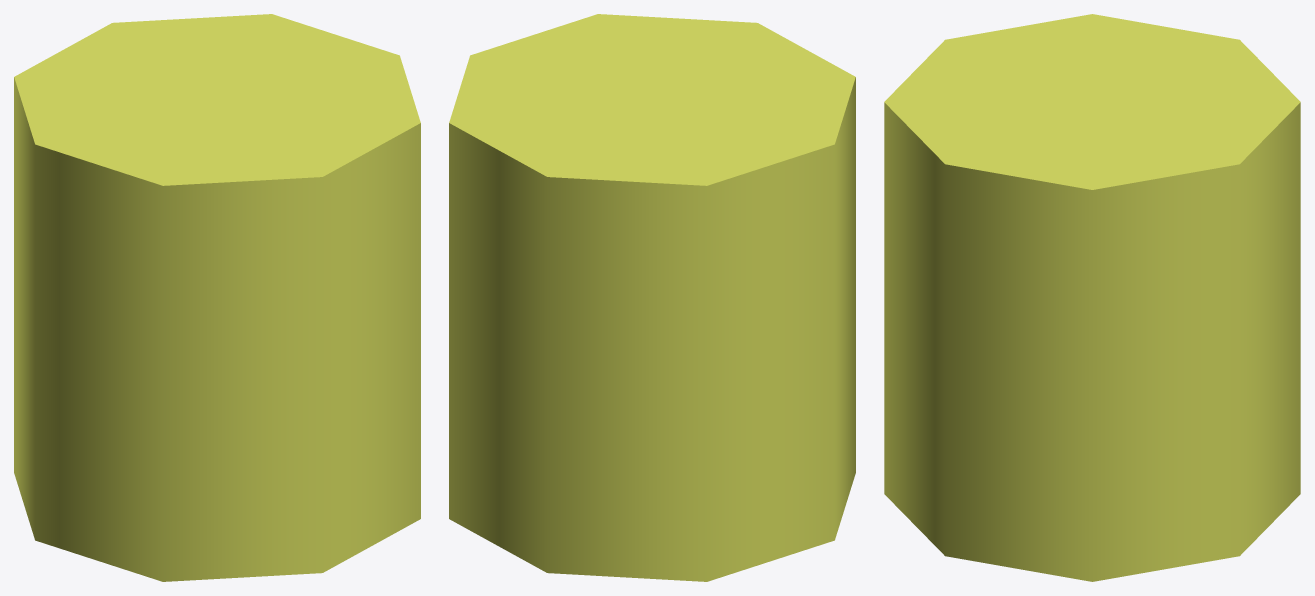
File: li_can01.fbx
3 renders of one model, left to right at view 1: azimuth 30°, elevation 25°; view 2: azimuth 150°, elevation 25°; view 3: azimuth 270°, elevation 25°, orthographic.
Visible parts, largest first — view 1: li_can01; view 2: li_can01; view 3: li_can01.
Part boxes in pixels (left/top/right/bottom): li_can01: left=14, top=14, right=420, bottom=581; li_can01: left=449, top=14, right=855, bottom=581; li_can01: left=884, top=14, right=1300, bottom=581.
Bounding box in the file's own units: 12.06 × 12.52 × 12.06.
